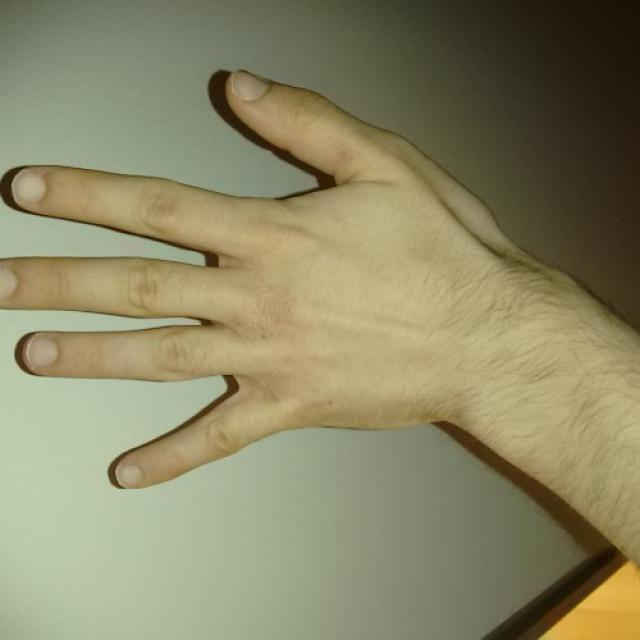paper: (0, 69, 478, 488)
